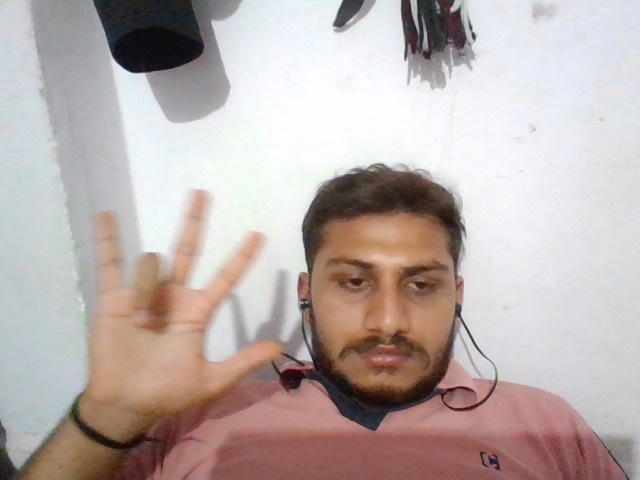ILoveYou: (85, 169, 289, 415)
